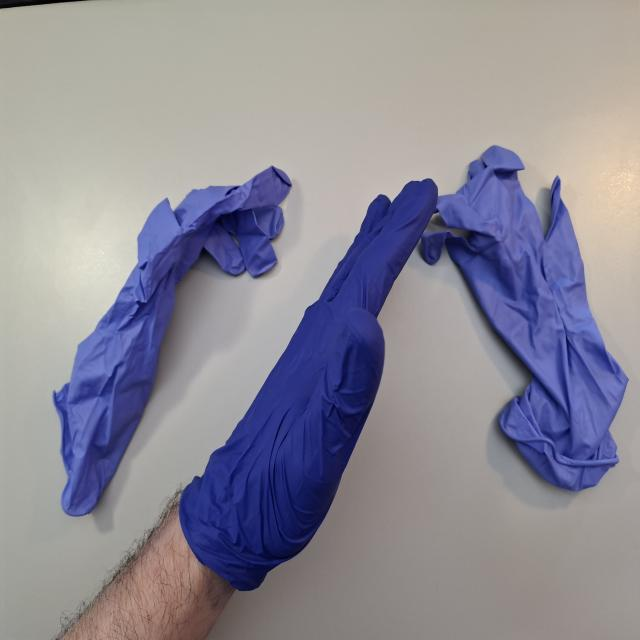glove_on: (177, 175, 440, 601)
